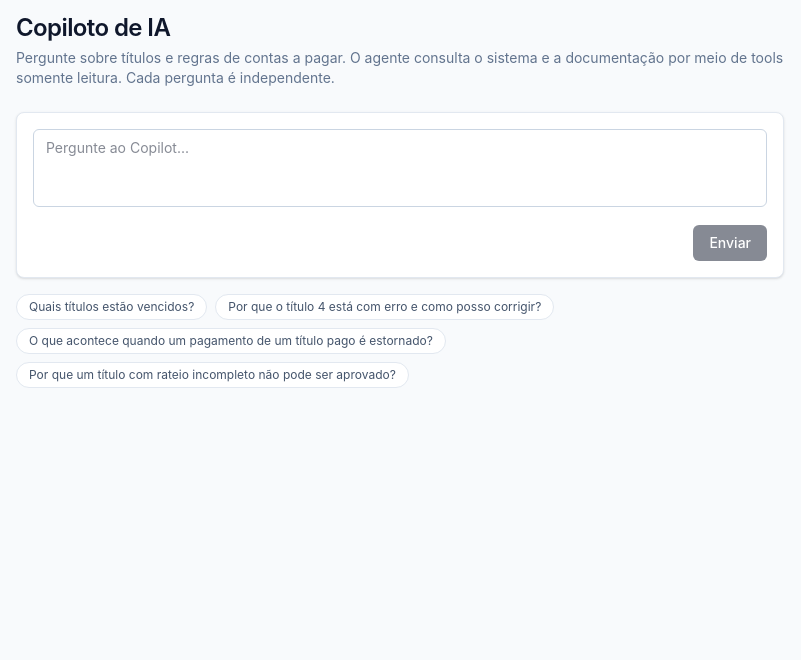
CopilotPage › pede a resposta no idioma selecionado
Type "Quais títulos estão vencidos?" into the text box named "Pergunta".
click(400, 168); type("Quais títulos estão vencidos?")  # box left=33, top=129, right=767, bottom=207
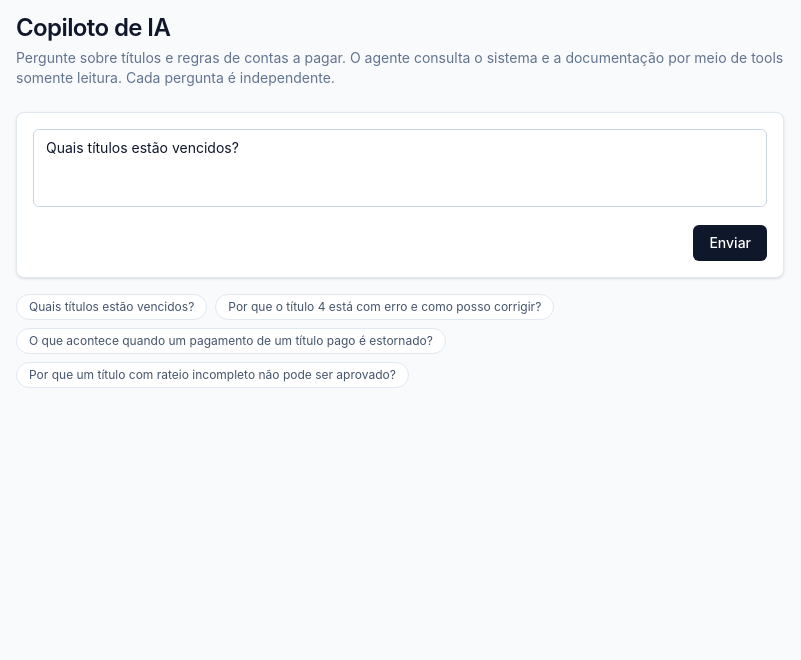
Click the button "Enviar".
click(730, 243)  # box left=693, top=225, right=767, bottom=261
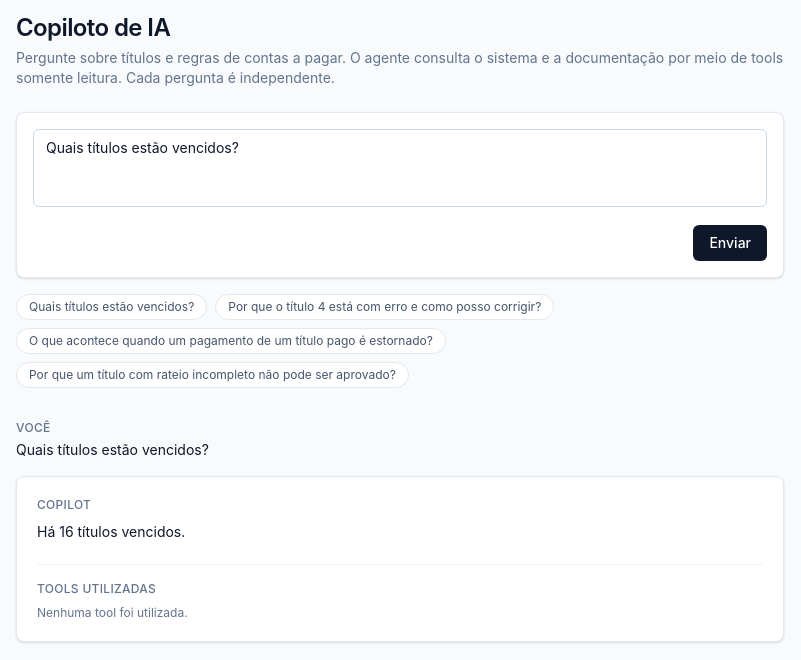
Expected: the text "Há 16 títulos vencidos." is shown, left=37, top=523, right=185, bottom=540
